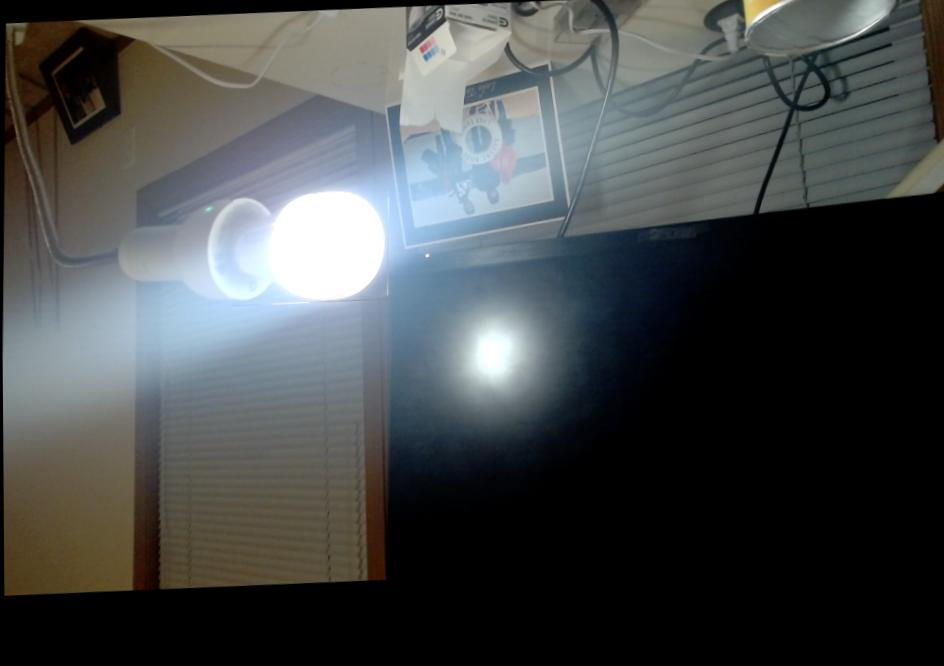TubeLight: (230, 192, 389, 312)
